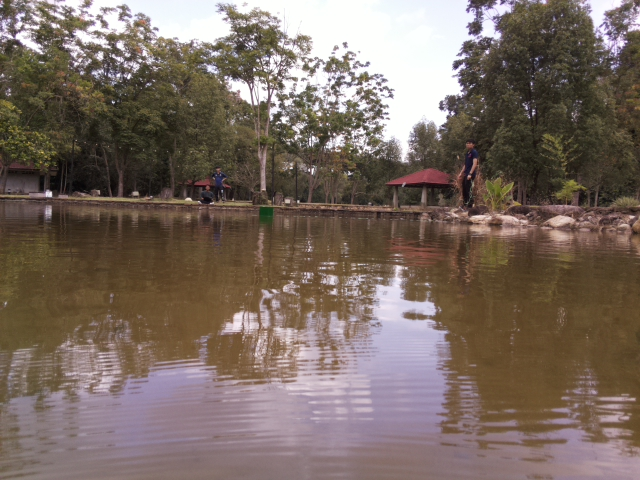obstacle: (258, 206, 275, 218)
